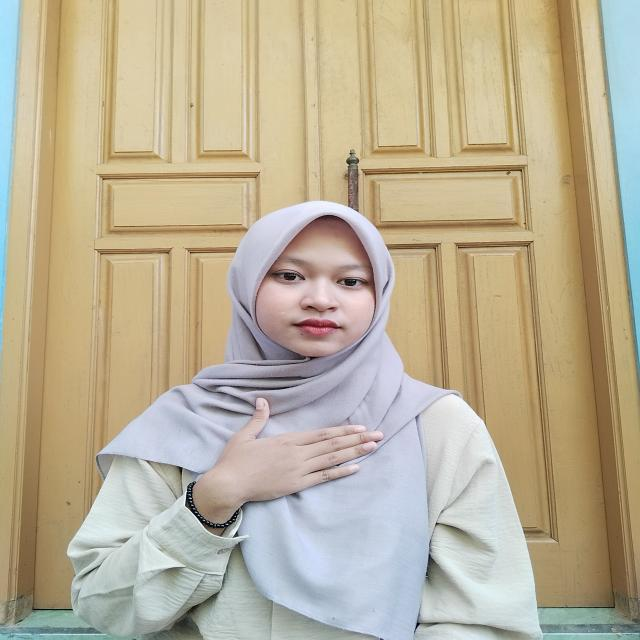tolong: (170, 395, 384, 530)
